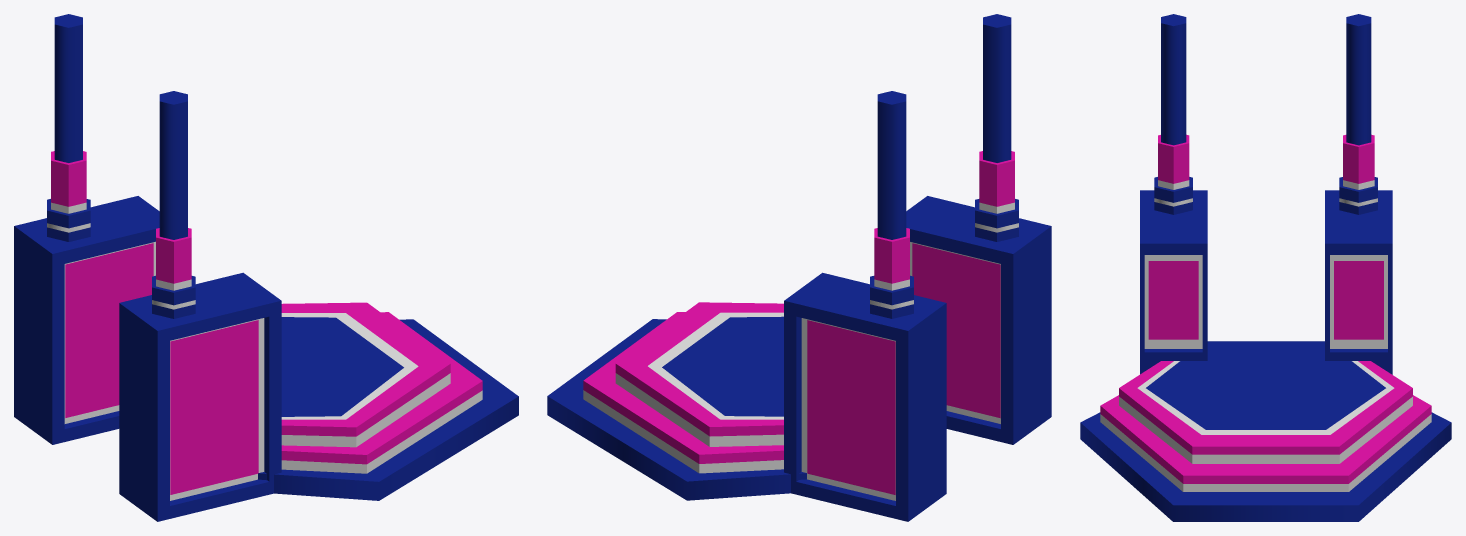
Rendered from APP-Stage.fbx.
3 renders of one model, left to right at view 1: azimuth 30°, elevation 25°; view 2: azimuth 150°, elevation 25°; view 3: azimuth 270°, elevation 25°, orthographic. The views are drawn at different scales.
Parts seen in each view (by area): view 1: Box001, Steps, Box002; view 2: Box002, Steps, Box001; view 3: Steps, Box002, Box001.
Boxes of the visible parts, box(x1,y1,x2,y2) form: Box001: box(119, 91, 281, 521); Steps: box(258, 302, 518, 500); Box002: box(14, 14, 159, 444); Box002: box(784, 91, 946, 521); Steps: box(547, 302, 806, 500); Box001: box(906, 14, 1051, 444); Steps: box(1080, 341, 1451, 521); Box002: box(1325, 14, 1392, 374); Box001: box(1140, 14, 1207, 374).
Size of the model in its own units: 41.65 by 42.04 by 40.
